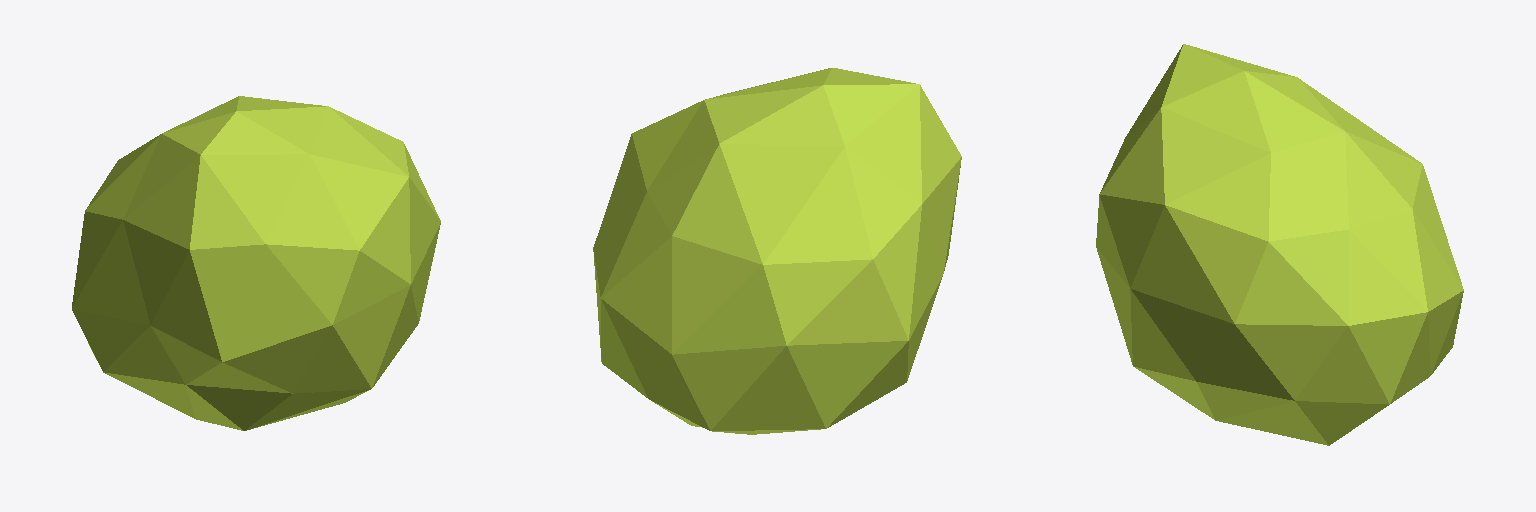
The model's file is Rock7.obj.
The picture shows the model from 3 angles: view 1: azimuth 30°, elevation 25°; view 2: azimuth 150°, elevation 25°; view 3: azimuth 270°, elevation 25°; orthographic projection.
Visible parts, largest first — view 1: GeoSphere001; view 2: GeoSphere001; view 3: GeoSphere001.
Boxes of the visible parts, x1=… form: GeoSphere001: x1=72, y1=96, x2=440, y2=430; GeoSphere001: x1=593, y1=68, x2=961, y2=434; GeoSphere001: x1=1096, y1=44, x2=1463, y2=445.
Bounding box in the file's own units: 2.04 × 2 × 2.